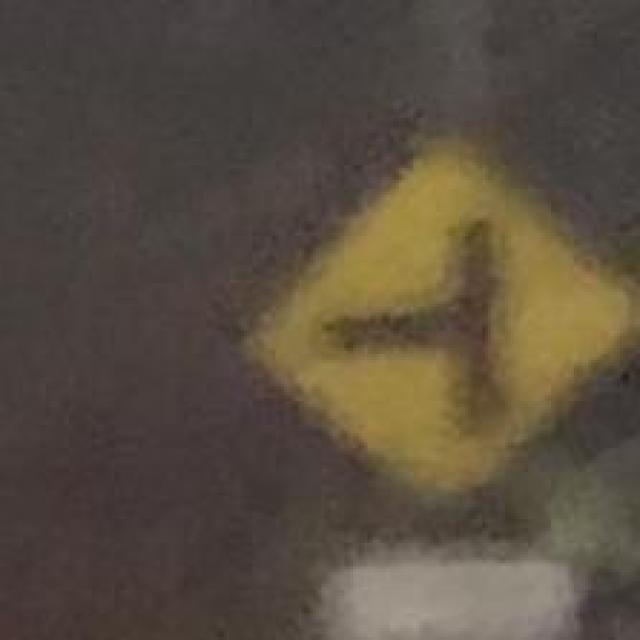traffic sign: (258, 159, 620, 492)
